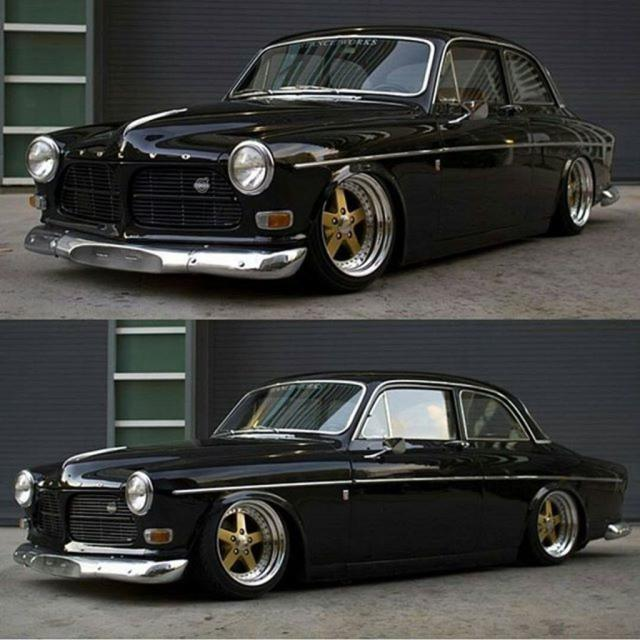Car: (24, 26, 620, 290), (13, 371, 631, 600)
